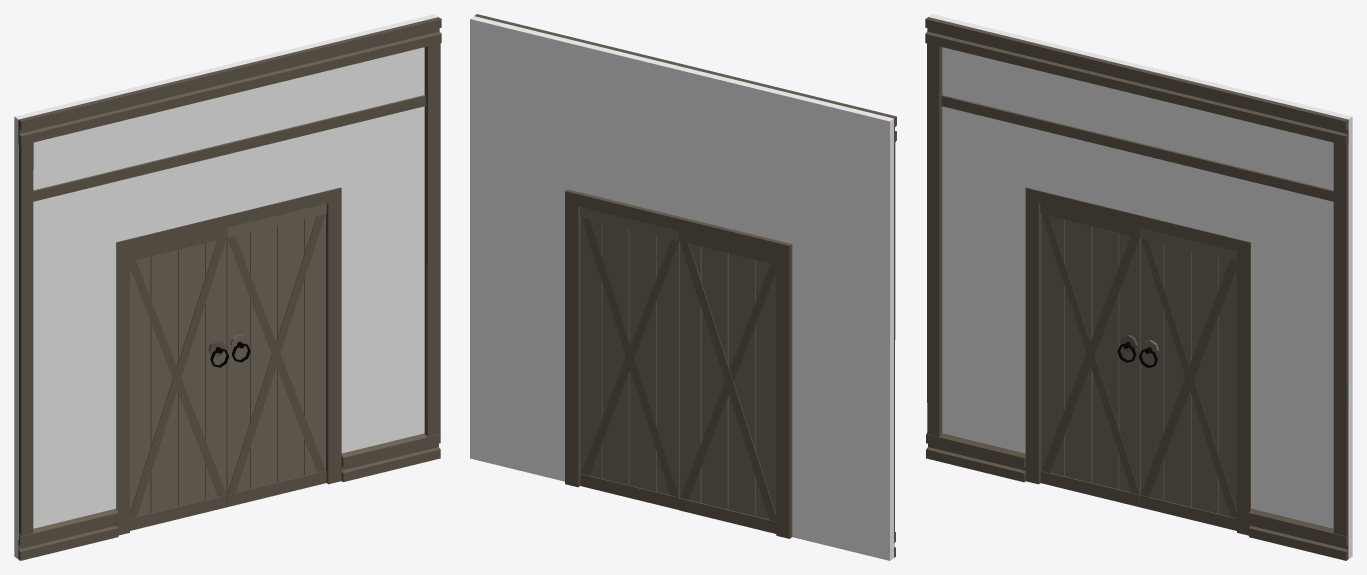
File: DOOR_03_1.fbx
The picture shows the model from 3 angles, left to right: view 1: azimuth 30°, elevation 25°; view 2: azimuth 150°, elevation 25°; view 3: azimuth 330°, elevation 25°; orthographic projection.
Visible parts, largest first — view 1: DOOR_03_1; view 2: DOOR_03_1; view 3: DOOR_03_1.
Part boxes in pixels (x1=…): DOOR_03_1: x1=14, y1=14, x2=441, y2=560; DOOR_03_1: x1=470, y1=14, x2=896, y2=560; DOOR_03_1: x1=925, y1=14, x2=1352, y2=560.
Bounding box in the file's own units: 300 × 300 × 11.7.
